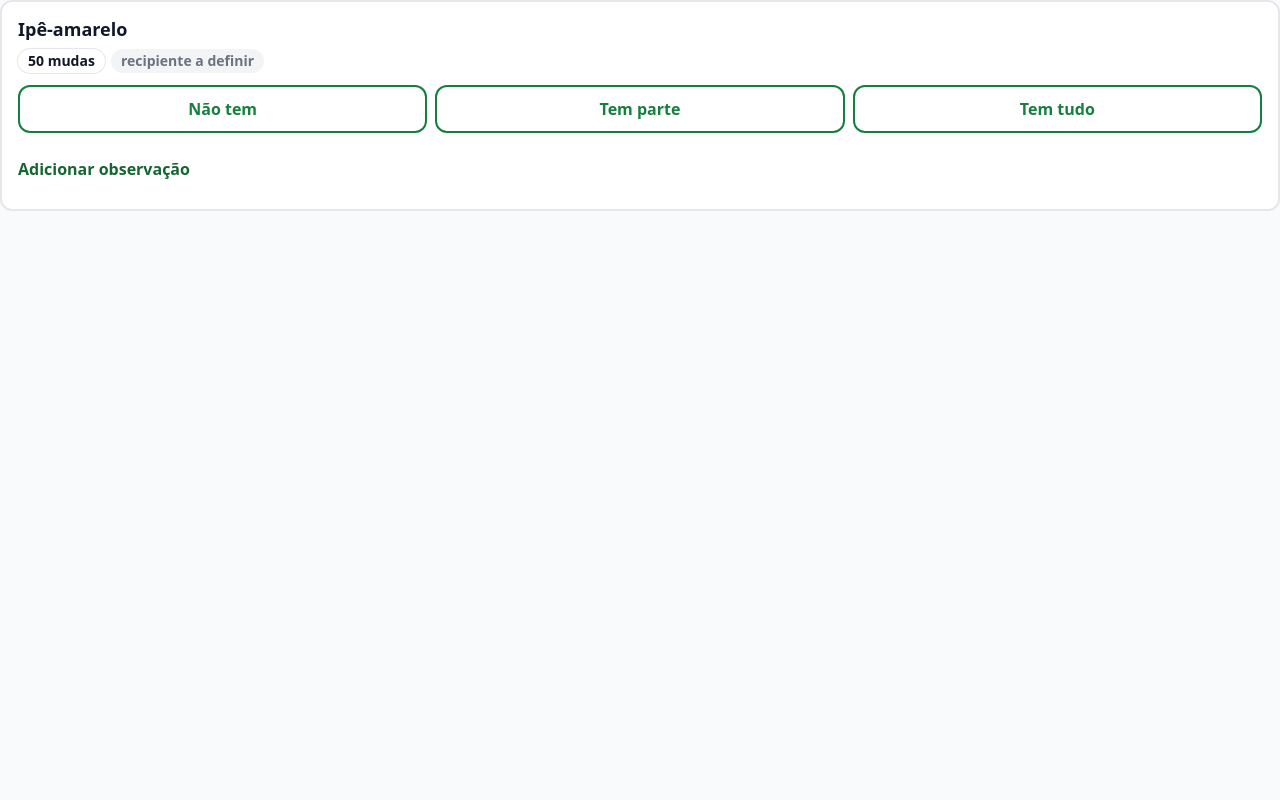
VerificacaoItem, "Tem tudo" dividido em recipientes (P17) › a soma que não fecha o pedido avisa e não grava
The width and height of the screenshot is (1280, 800).
Click the button "Tem tudo": (1057, 108) x1=853 y1=84 x2=1262 y2=132
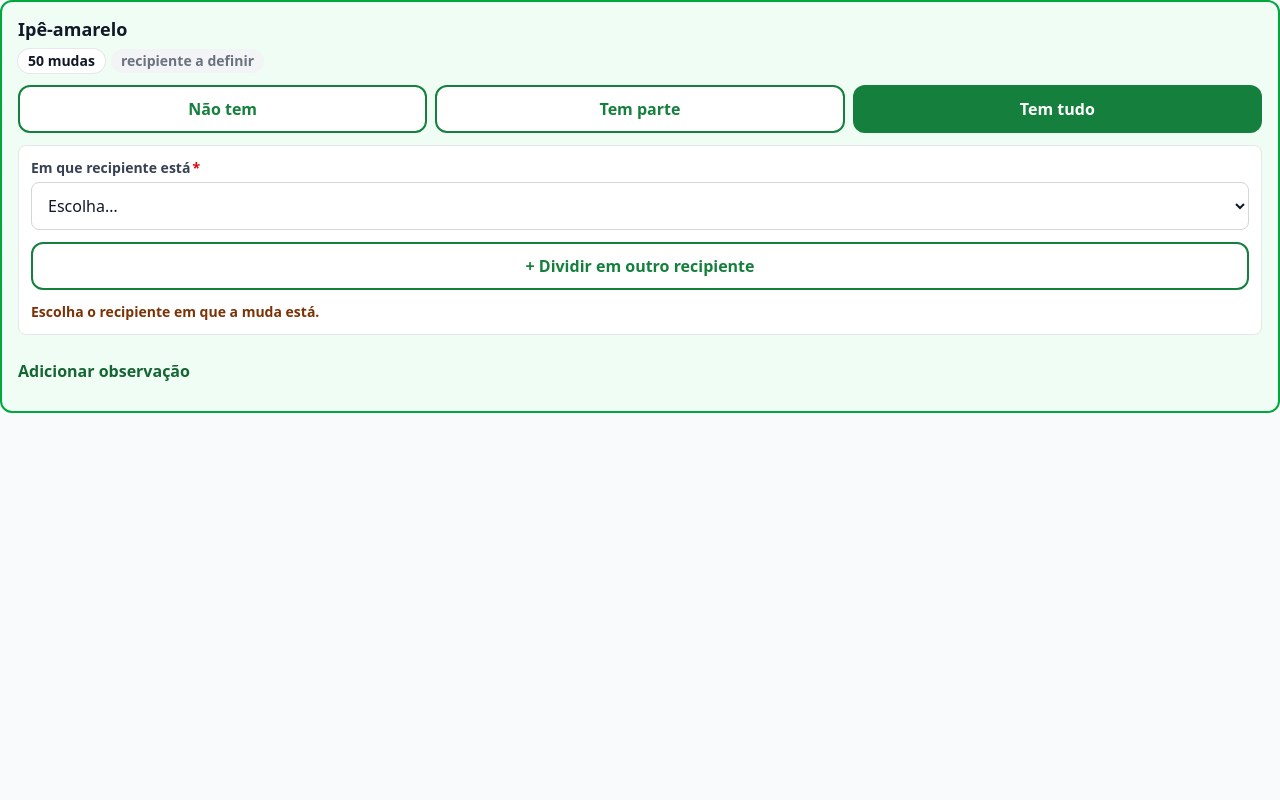
Click the button "+ Dividir em outro recipiente": (640, 266) x1=31 y1=242 x2=1249 y2=290
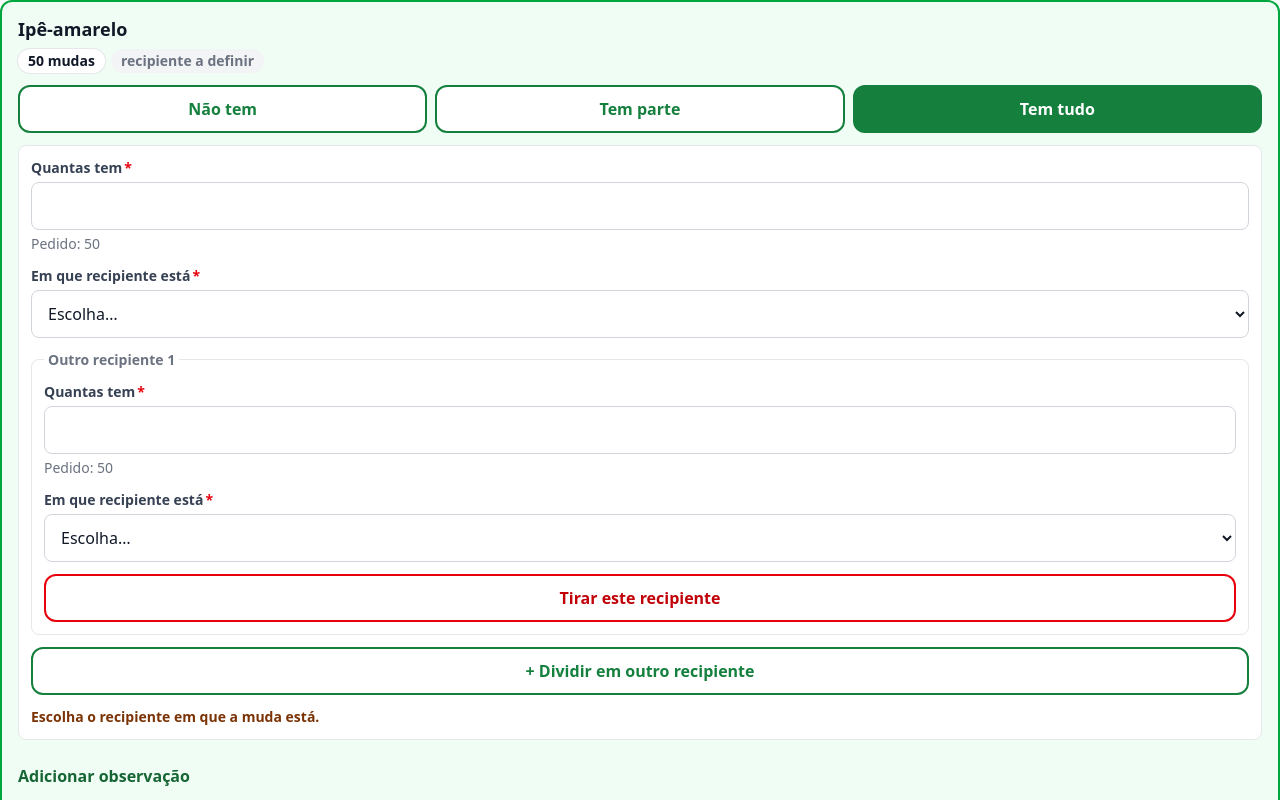
In the 1st field labelled "Quantas tem": (640, 206) x1=31 y1=182 x2=1249 y2=230, type "20"
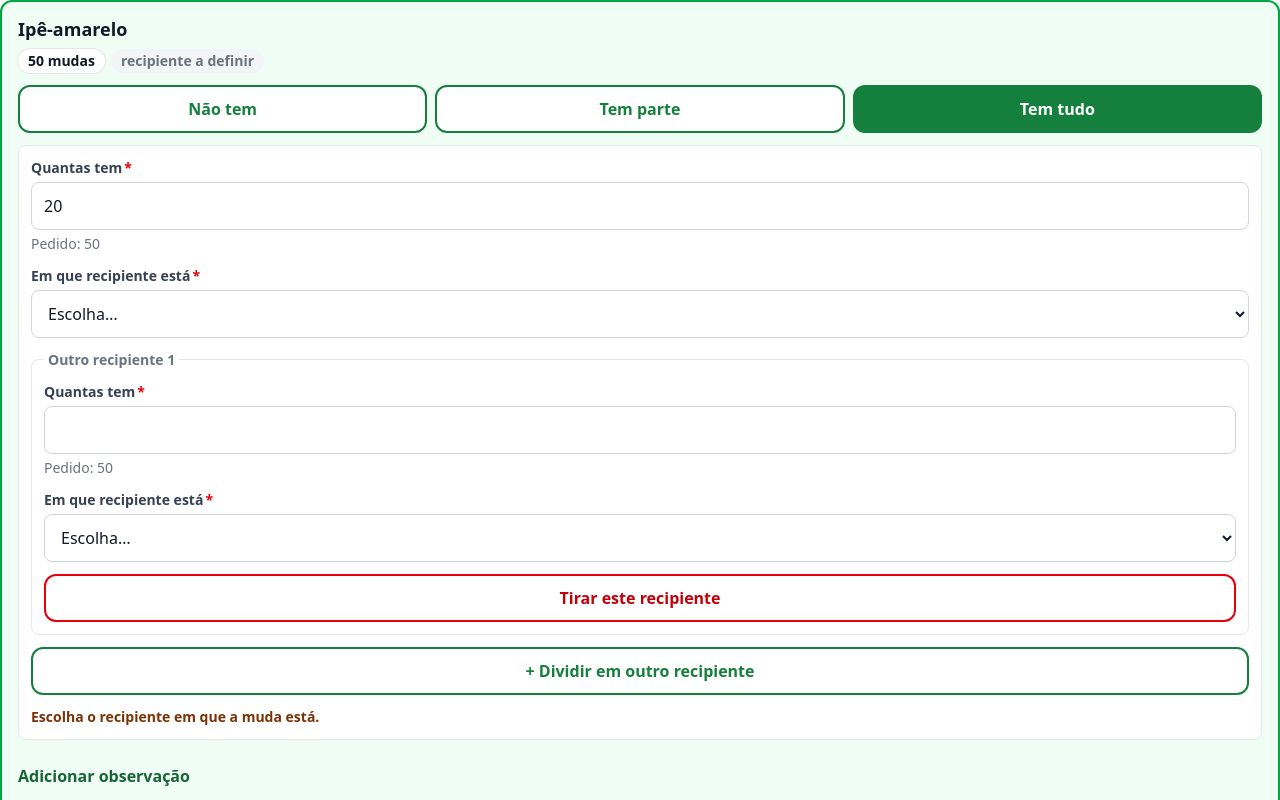
Select "Tubete" in the 1st dropdown labelled "Em que recipiente está": (640, 314) x1=31 y1=290 x2=1249 y2=338
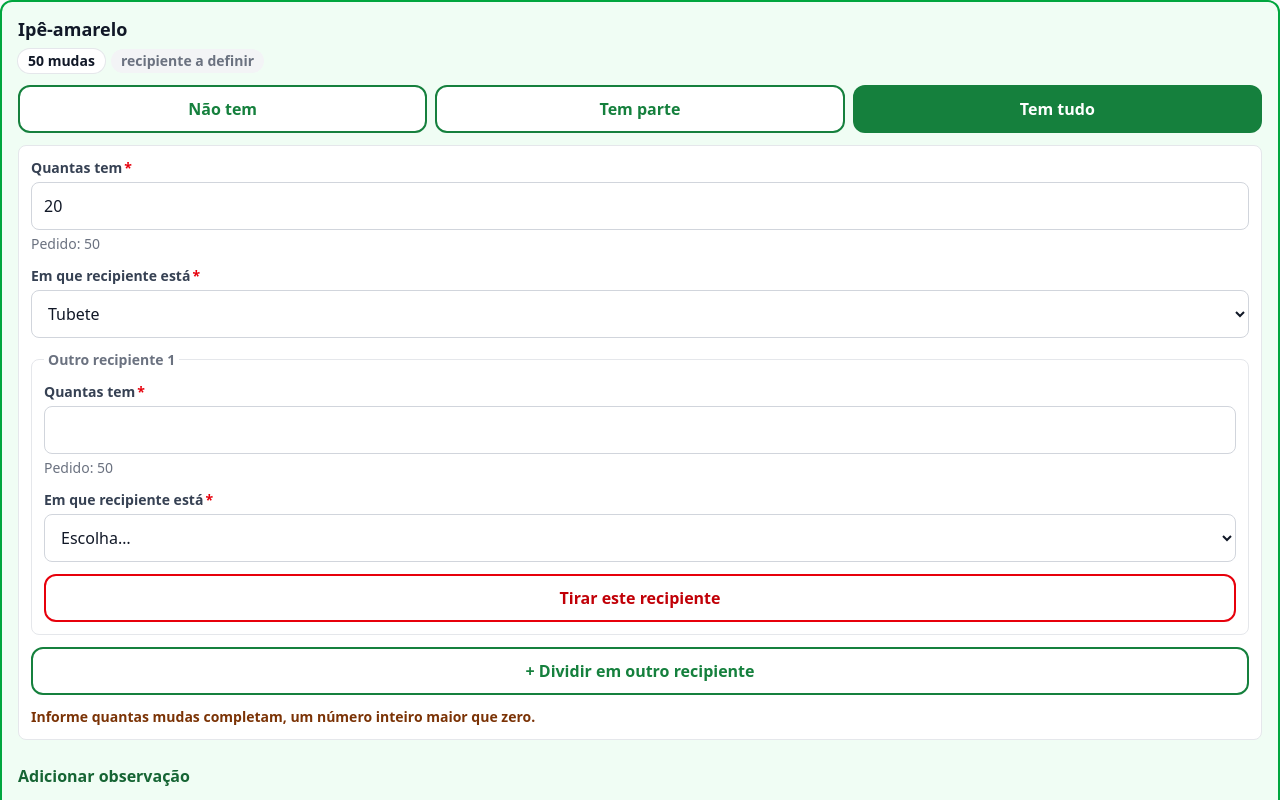
In the field labelled "Quantas tem" below "Outro recipiente 1": (640, 430) x1=44 y1=406 x2=1236 y2=454, type "20"
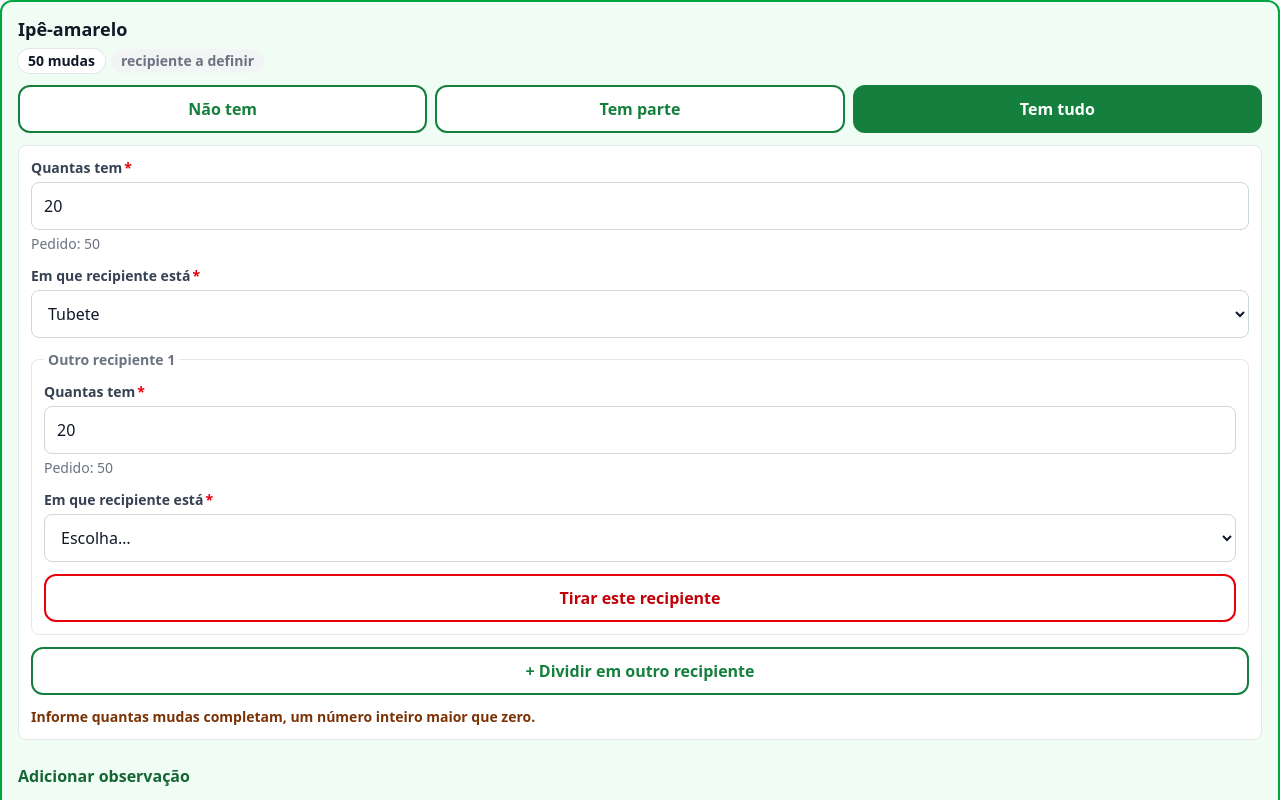
Select "Saco 10x18" in the dropdown labelled "Em que recipiente está" below "Outro recipiente 1": (640, 538) x1=44 y1=514 x2=1236 y2=562
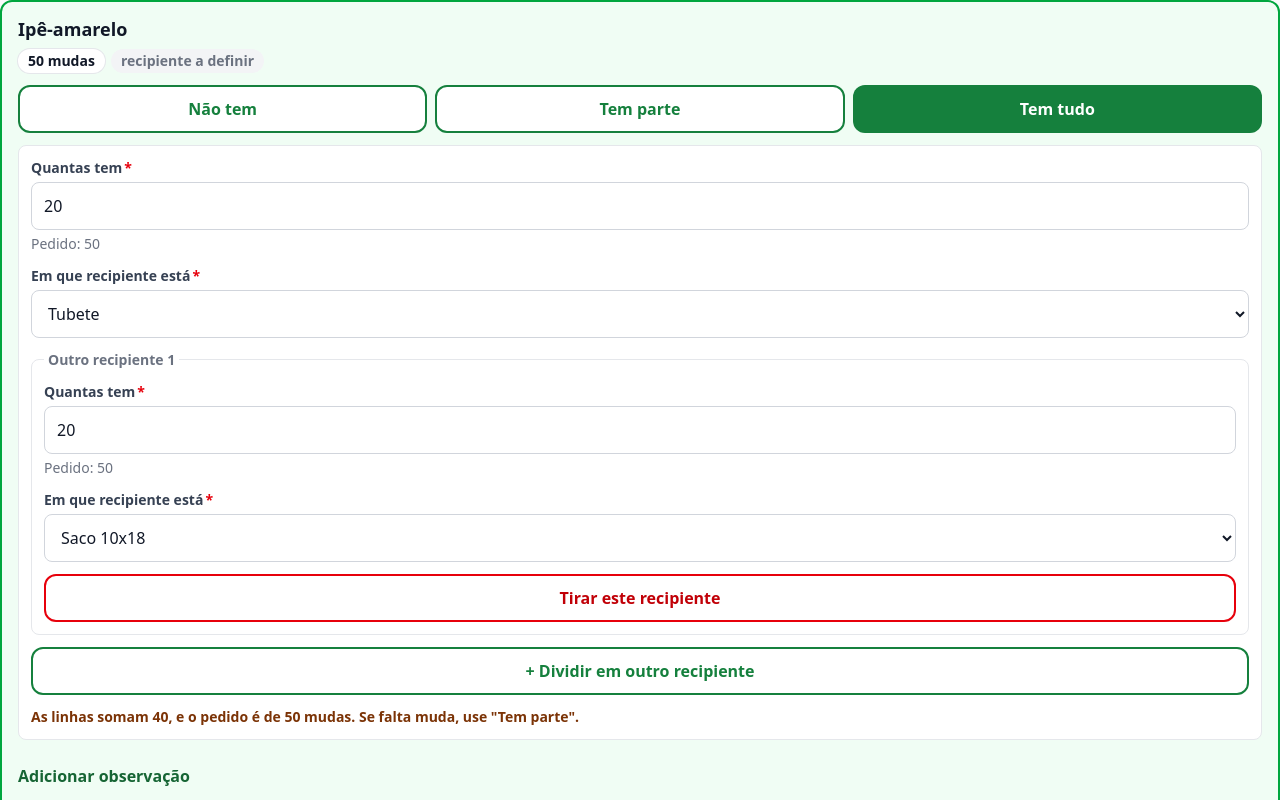
expect the text "somam 40" is shown: met, box x1=31 y1=706 x2=579 y2=726
